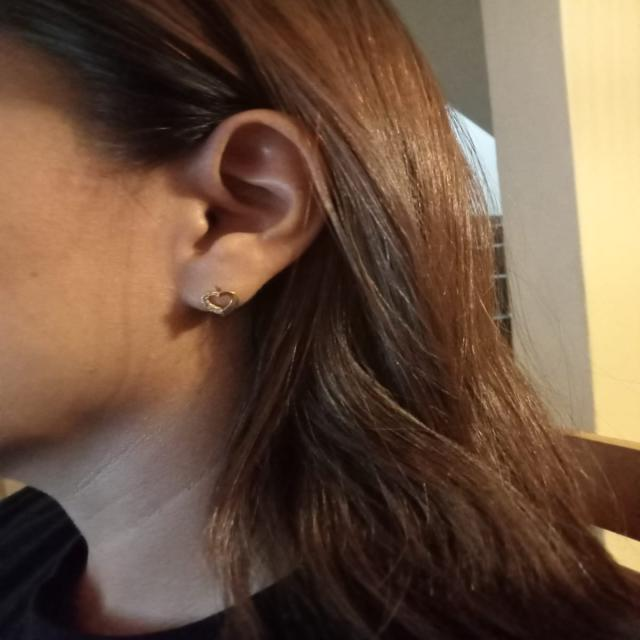ear: (178, 109, 323, 316)
